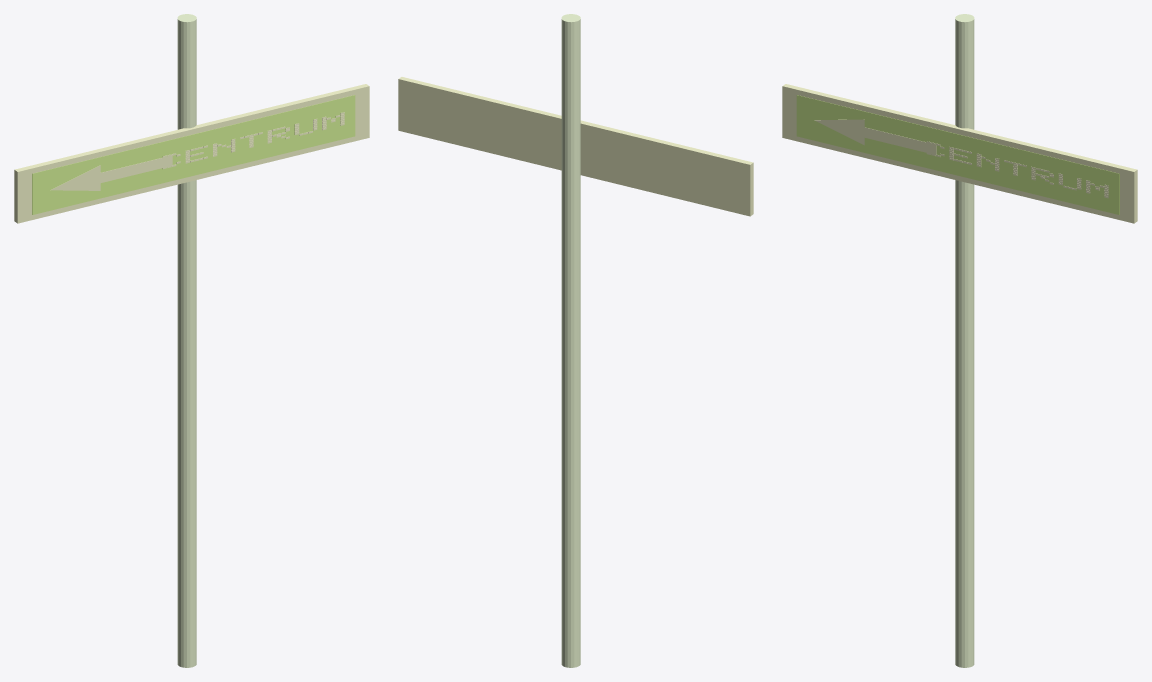
File: sign_centrum_arrow_left.glb
The picture shows the model from 3 angles, left to right: view 1: azimuth 30°, elevation 25°; view 2: azimuth 150°, elevation 25°; view 3: azimuth 330°, elevation 25°; orthographic projection.
Visible parts, largest first — view 1: pole, layer_1_00, plate_base_00, layer_2_00, layer_2_01; view 2: plate_base_00, pole; view 3: pole, layer_1_00, plate_base_00, layer_2_00, layer_2_01.
Boxes of the visible parts, <box> form: pole: <box>177,14,196,667</box>; layer_1_00: <box>32,95,355,214</box>; plate_base_00: <box>14,84,369,223</box>; layer_2_00: <box>100,155,172,182</box>; layer_2_01: <box>50,165,100,190</box>; plate_base_00: <box>398,77,753,216</box>; pole: <box>561,14,580,667</box>; pole: <box>955,14,974,667</box>; layer_1_00: <box>796,95,1119,214</box>; plate_base_00: <box>782,84,1137,223</box>; layer_2_00: <box>864,127,936,154</box>; layer_2_01: <box>814,119,864,145</box>.
Bounding box in the file's own units: 1.25 × 2.2 × 0.0725.
